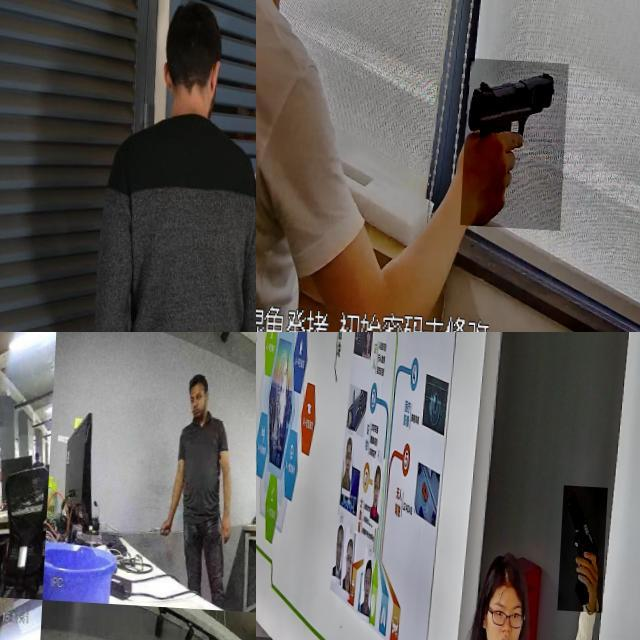-: (148, 508, 170, 538), (0, 532, 11, 547)
gun-knife-thesis - v11 Yolov5 augmented: (466, 54, 572, 226), (562, 479, 611, 606)
